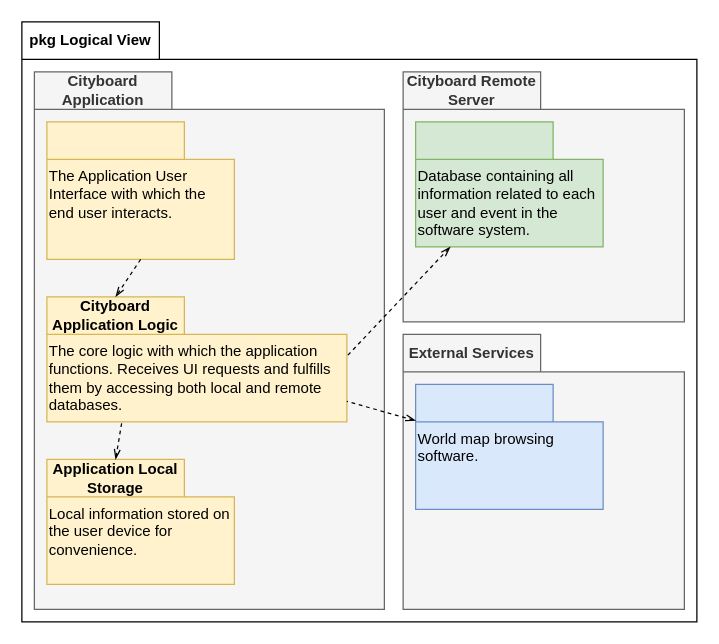
The diagram is 719 pixels wide and 644 high, and some of its shapes have lost their labels. The shapes that lost their labels are listed below. From the top down, each one's centre as x and y in pixels, then its label:
the point at 140,190: Citybpard Application UI
the point at 508,184: Remote Database
the point at 508,446: Google Maps API
